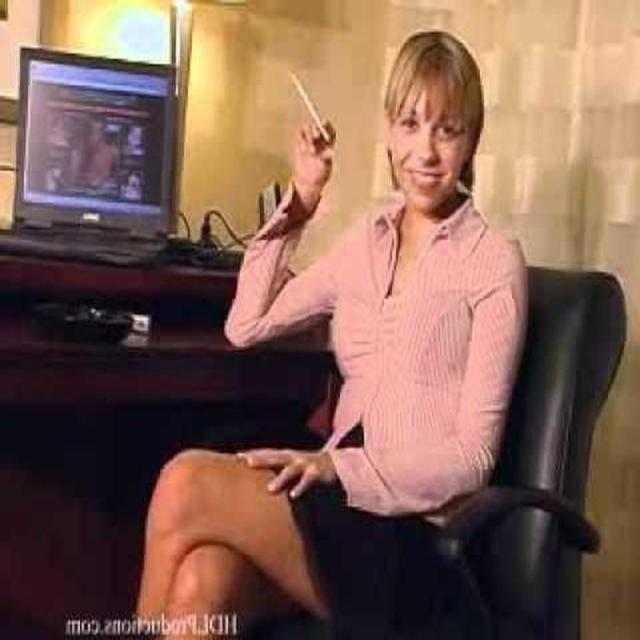smoking: (282, 23, 524, 327)
